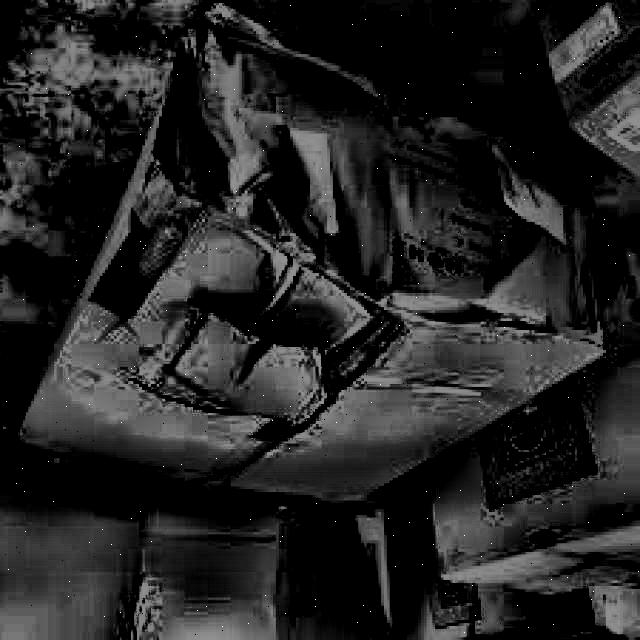box: (7, 13, 615, 524)
hole: (85, 43, 221, 329)
